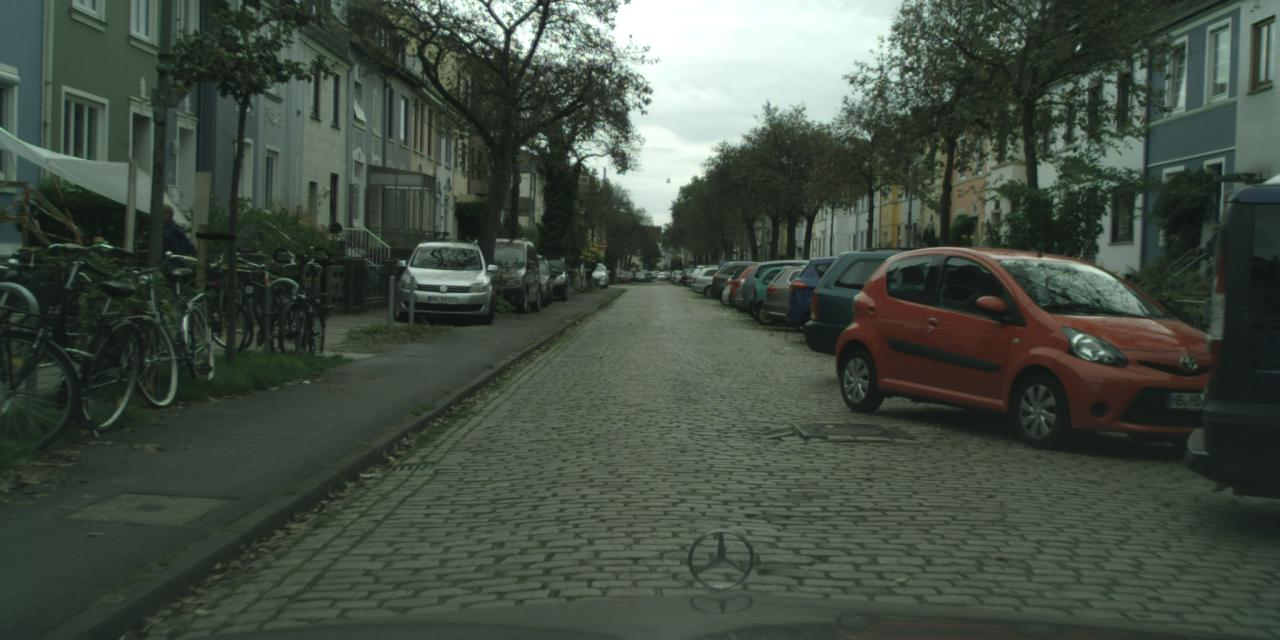ped: (144, 204, 197, 332)
